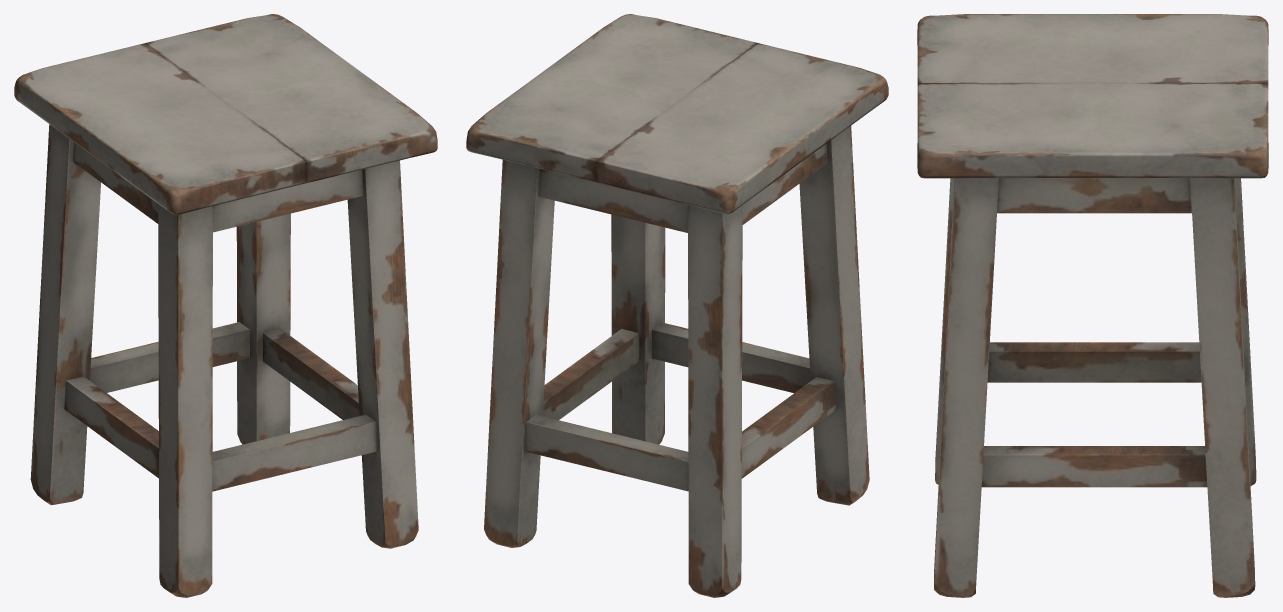
The model's file is painted_wooden_stool.glb.
3 renders of one model, left to right at view 1: azimuth 30°, elevation 25°; view 2: azimuth 150°, elevation 25°; view 3: azimuth 270°, elevation 25°, orthographic. The views are drawn at different scales.
Visible parts, largest first — view 1: painted_wooden_stool; view 2: painted_wooden_stool; view 3: painted_wooden_stool.
Part boxes in pixels (box(x1,y1,x2,y2)): painted_wooden_stool: box(14, 14, 437, 597); painted_wooden_stool: box(466, 14, 888, 597); painted_wooden_stool: box(917, 14, 1268, 597).
Bounding box in the file's own units: 0.3848 × 0.5789 × 0.4061.
Materials: 1 (1 with a texture image).
